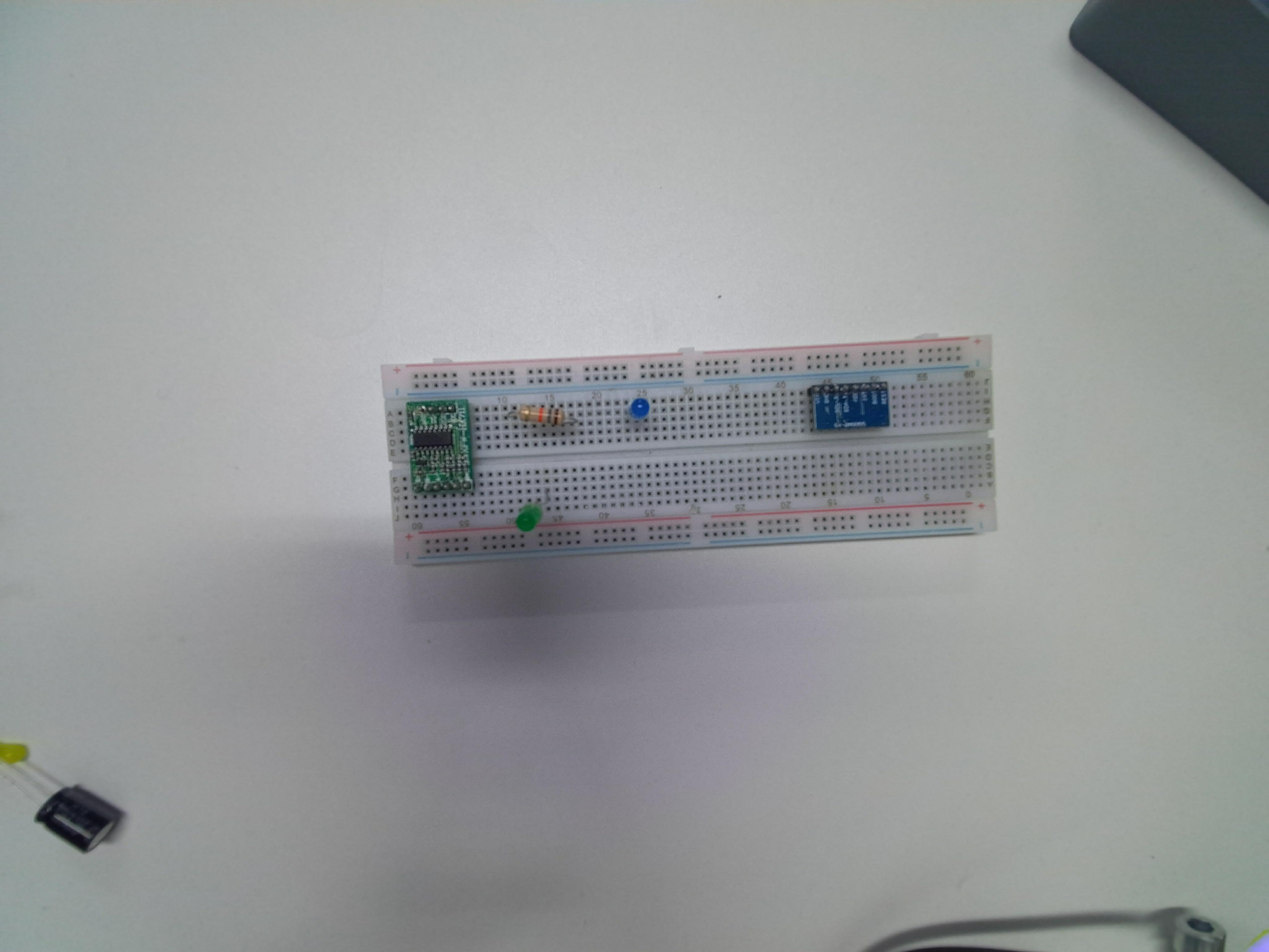base: (380, 336, 998, 567)
blue-board: (808, 380, 890, 434)
blue-led: (627, 395, 655, 423)
capacitor: (30, 785, 126, 866)
green-board: (403, 394, 477, 499)
green-led: (513, 500, 543, 539)
resistor-big: (517, 404, 567, 429)
yellow-led: (1, 735, 32, 777)
